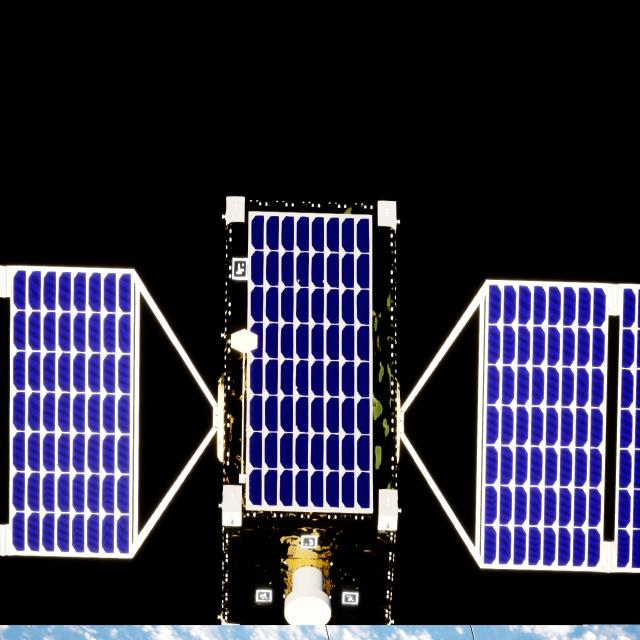medium_debris: (4, 196, 640, 627)
